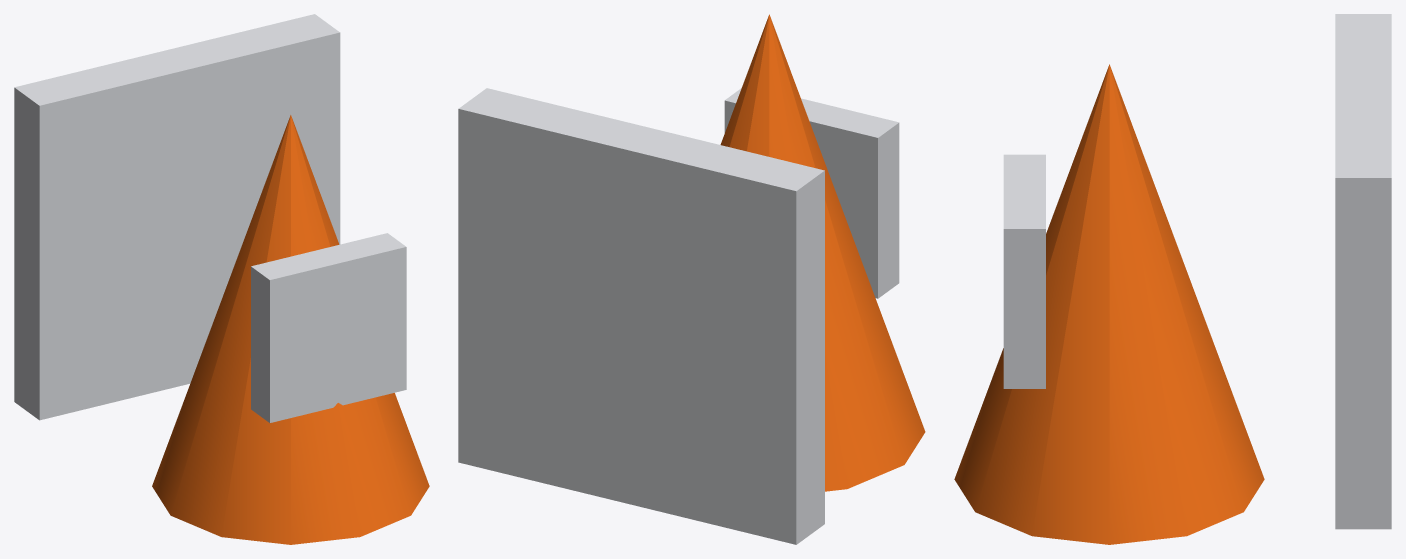
Rendered from traffic-cone.standard.glb.
3 views of the same model, side by side, from view 1: azimuth 30°, elevation 25°; view 2: azimuth 150°, elevation 25°; view 3: azimuth 270°, elevation 25° (orthographic). The views are drawn at different scales.
Parts seen in each view (by area): view 1: traffic-cone.standard; view 2: traffic-cone.standard; view 3: traffic-cone.standard.
Boxes of the visible parts, x1,y1,x2,y2 form: traffic-cone.standard: [14, 14, 429, 544]; traffic-cone.standard: [458, 14, 925, 544]; traffic-cone.standard: [954, 14, 1391, 544].
Size of the model in its own units: 0.55 by 0.65 by 0.62.
